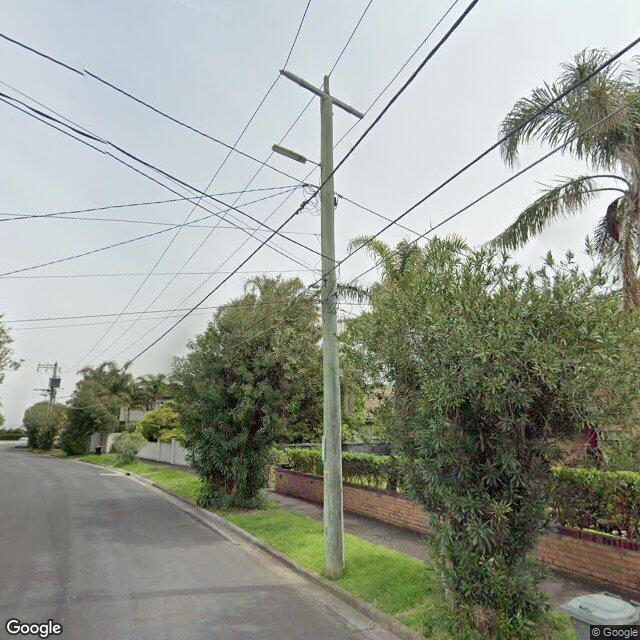HV-transmission: (280, 68, 364, 119)
crossarm: (300, 80, 349, 112)
streetlight: (272, 142, 322, 168)
timber-pole: (320, 95, 346, 573), (50, 362, 58, 402)
transformer: (48, 376, 62, 388)
